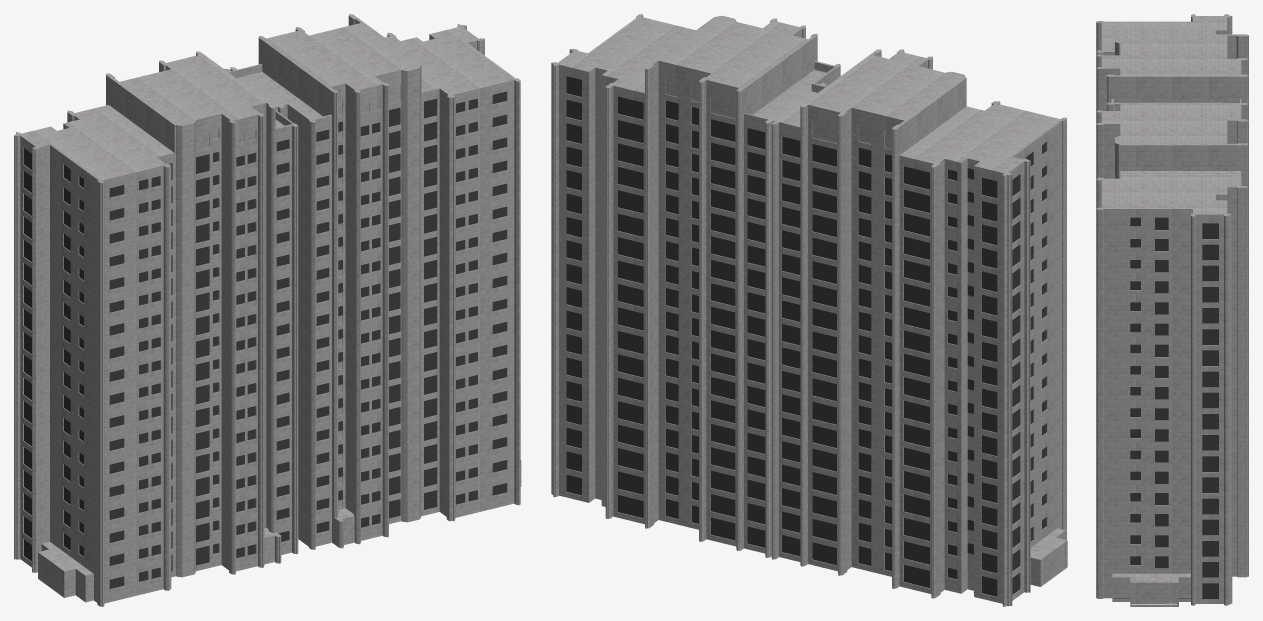
Rendered from builder_10.FBX.
The picture shows the model from 3 angles, left to right: view 1: azimuth 30°, elevation 25°; view 2: azimuth 150°, elevation 25°; view 3: azimuth 270°, elevation 25°; orthographic projection. The views are drawn at different scales.
Parts seen in each view (by area): view 1: builder_10; view 2: builder_10; view 3: builder_10.
Boxes of the visible parts, x1,y1,x2,y2 form: builder_10: (14, 14, 522, 606); builder_10: (551, 14, 1067, 606); builder_10: (1096, 14, 1248, 606).
Size of the model in its own units: 44450 by 41754 by 13951.
